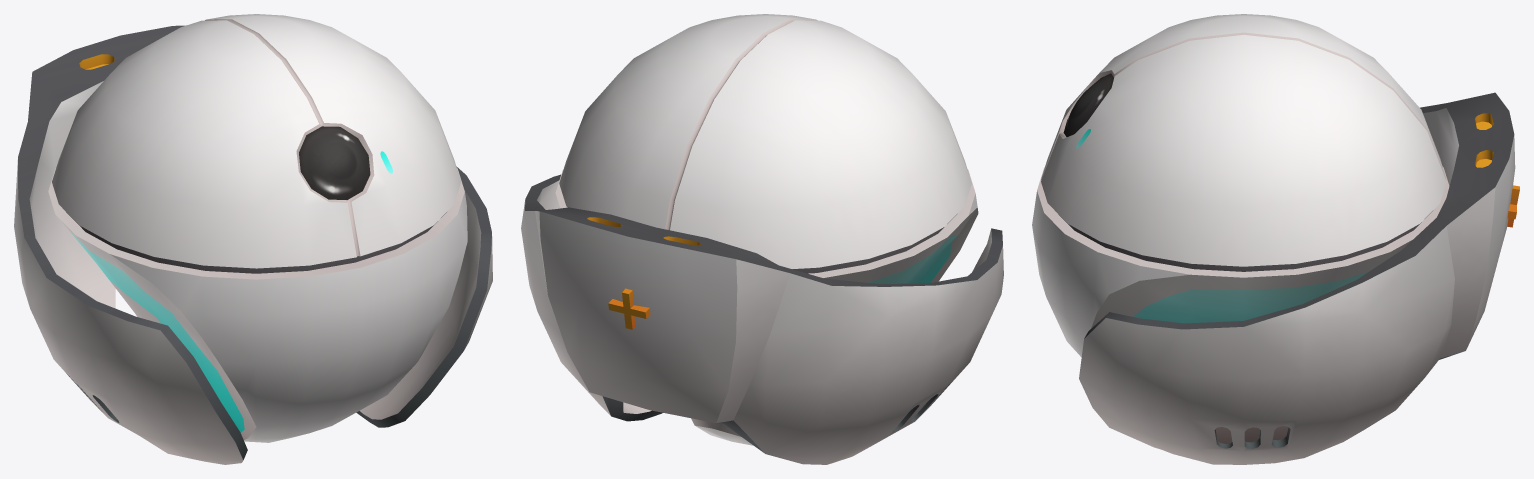
The model's file is robo.FBX.
The picture shows the model from 3 angles, left to right: view 1: azimuth 30°, elevation 25°; view 2: azimuth 150°, elevation 25°; view 3: azimuth 270°, elevation 25°; orthographic projection.
Parts seen in each view (by area): view 1: robo_top, robo, robo_outside; view 2: robo_outside, robo_top, robo; view 3: robo_top, robo_outside, robo.
Part boxes in pixels (box(x1,y1,x2,y2)): robo_top: box(52, 14, 460, 268); robo: box(48, 168, 467, 442); robo_outside: box(14, 25, 492, 464); robo_outside: box(521, 174, 1003, 464); robo_top: box(559, 14, 971, 268); robo: box(555, 169, 978, 445); robo_top: box(1041, 14, 1446, 266); robo_outside: box(1079, 92, 1519, 464); robo: box(1032, 167, 1449, 357).
Size of the model in its own units: 34.1 by 30.3 by 34.54.
